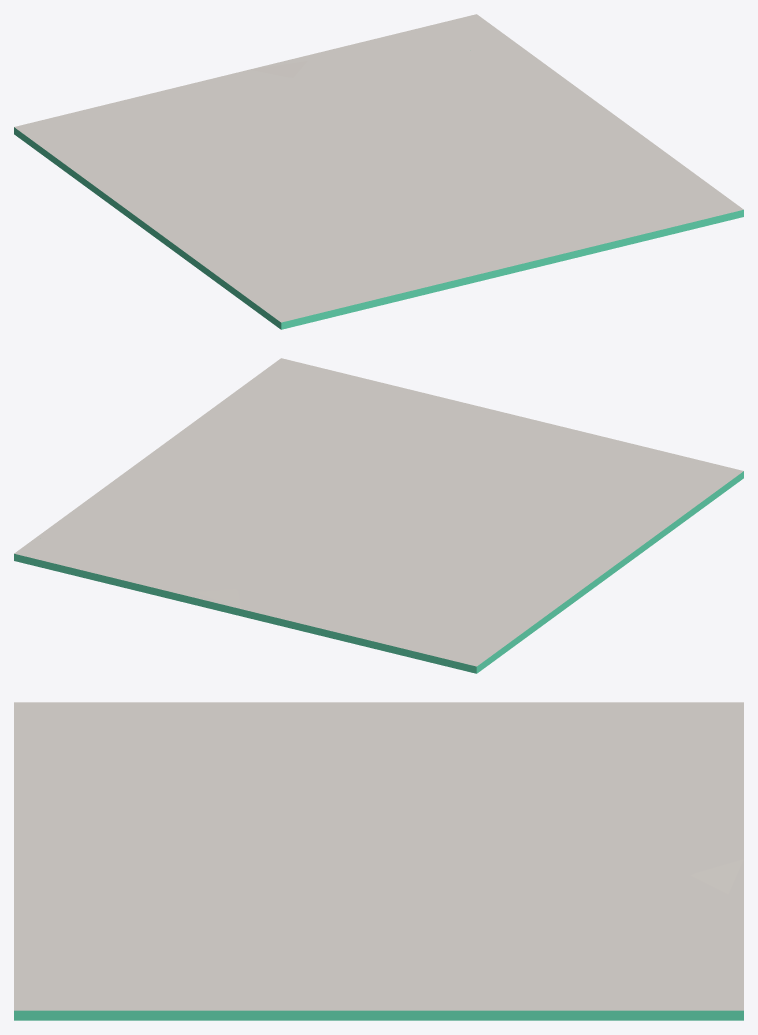
File: glass.fbx
3 renders of one model, top to bottom at view 1: azimuth 30°, elevation 25°; view 2: azimuth 150°, elevation 25°; view 3: azimuth 270°, elevation 25°, orthographic. The views are drawn at different scales.
Parts seen in each view (by area): view 1: Plane, Plane_cell.069, Plane_cell.092, Plane_cell.070, Plane_cell.067, Plane_cell.066, Plane_cell.091, Plane_cell.039, Plane_cell.094, Plane_cell.024, Plane_cell.035, Plane_cell.029 (+37 smaller); view 2: Plane, Plane_cell.069, Plane_cell.092, Plane_cell.070, Plane_cell.067, Plane_cell.066, Plane_cell.091, Plane_cell.094, Plane_cell.024, Plane_cell.039, Plane_cell.055, Plane_cell.086 (+31 smaller); view 3: Plane, Plane_cell.069, Plane_cell.092, Plane_cell.066, Plane_cell.070, Plane_cell.067, Plane_cell.091, Plane_cell.039, Plane_cell.024, Plane_cell.035, Plane_cell.029, Plane_cell.052 (+36 smaller).
Boxes of the visible parts, <box> form: Plane: <box>14,30,743,329</box>; Plane_cell.069: <box>396,14,497,72</box>; Plane_cell.092: <box>74,156,183,207</box>; Plane_cell.070: <box>262,93,366,135</box>; Plane_cell.067: <box>152,106,268,137</box>; Plane_cell.066: <box>441,30,542,76</box>; Plane_cell.091: <box>76,118,158,169</box>; Plane_cell.039: <box>449,118,558,150</box>; Plane_cell.094: <box>503,102,608,137</box>; Plane_cell.024: <box>51,110,111,177</box>; Plane_cell.035: <box>143,136,222,168</box>; Plane_cell.029: <box>225,133,289,170</box>; Plane: <box>14,358,743,673</box>; Plane_cell.069: <box>14,537,159,573</box>; Plane_cell.092: <box>471,582,577,626</box>; Plane_cell.070: <box>256,538,360,580</box>; Plane_cell.067: <box>325,570,421,616</box>; Plane_cell.066: <box>35,505,151,538</box>; Plane_cell.091: <box>407,605,533,634</box>; Plane_cell.094: <box>140,457,227,491</box>; Plane_cell.024: <box>408,622,536,656</box>; Plane_cell.039: <box>215,461,301,504</box>; Plane_cell.055: <box>413,639,513,672</box>; Plane_cell.086: <box>348,614,408,655</box>; Plane: <box>14,702,743,1020</box>; Plane_cell.069: <box>605,941,743,1020</box>; Plane_cell.092: <box>456,702,580,758</box>; Plane_cell.066: <box>563,952,686,1020</box>; Plane_cell.070: <box>509,826,630,881</box>; Plane_cell.067: <box>554,769,672,832</box>; Plane_cell.091: <box>575,704,701,770</box>; Plane_cell.039: <box>331,908,443,965</box>; Plane_cell.024: <box>581,702,743,757</box>; Plane_cell.035: <box>505,747,618,799</box>; Plane_cell.029: <box>447,779,554,830</box>; Plane_cell.052: <box>398,851,510,889</box>.
Size of the model in its own units: 200 by 3 by 200.
